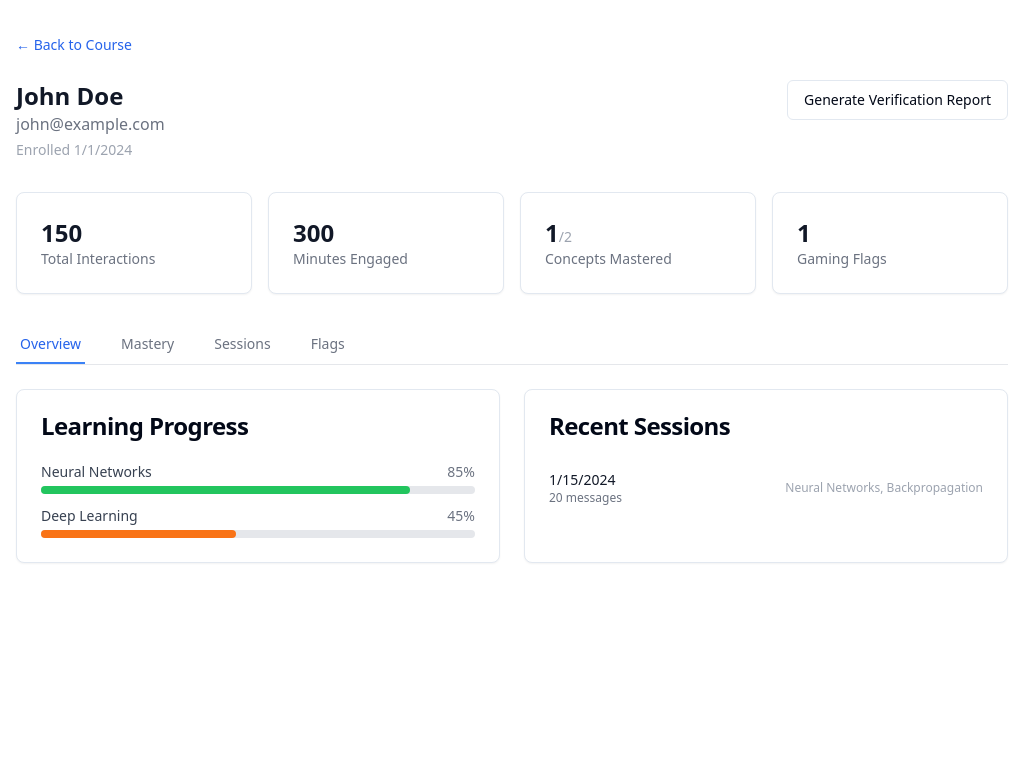
Test: StudentView › tabs › should switch to sessions tab when clicked
The image size is (1024, 768).
Expected: the heading "John Doe" is shown, [16,79,123,112]
Click the button "sessions".
click(242, 345)  # box [210,326,275,364]
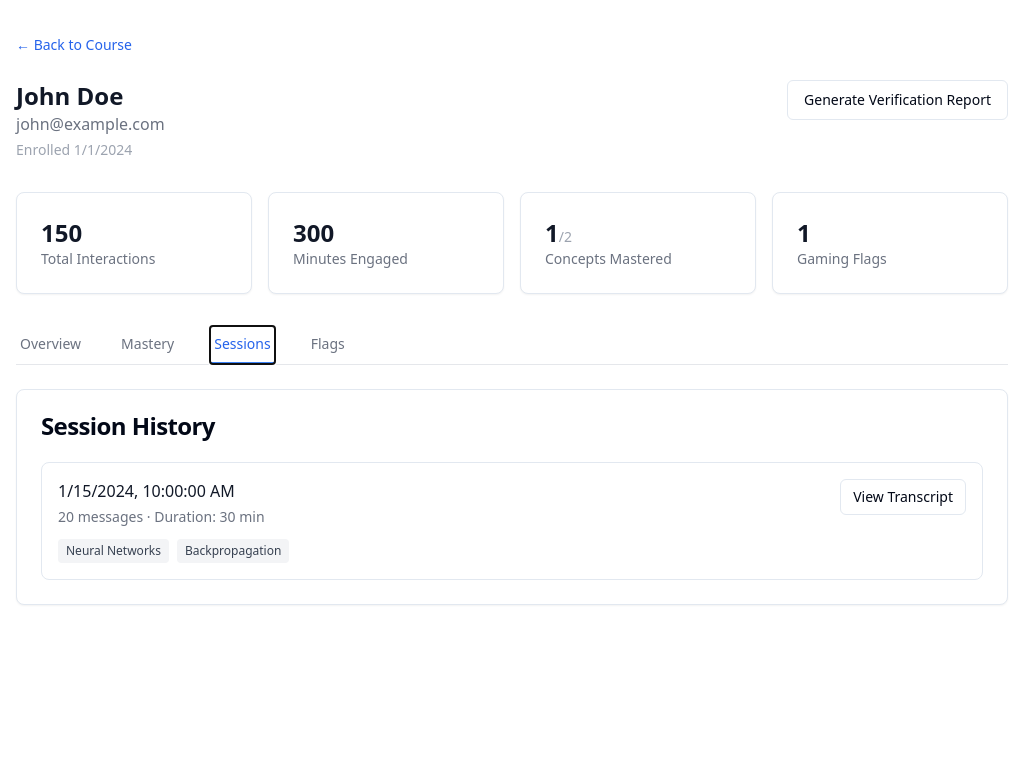
Expected: the heading "Session History" is shown, [41,409,215,442]
